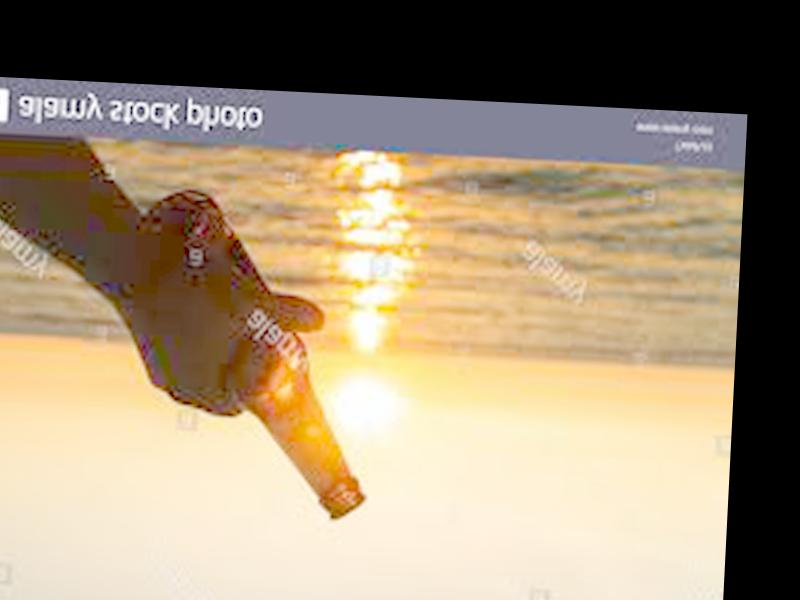Beer: (122, 186, 379, 526)
